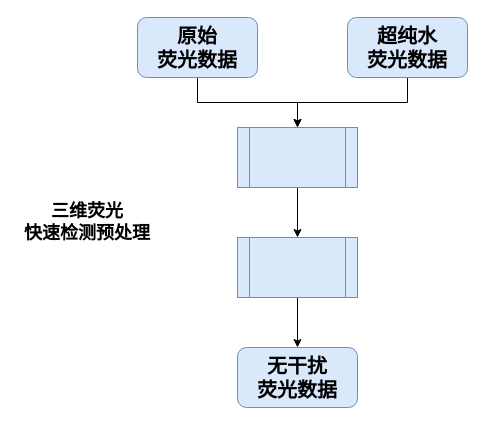
This 485x425 diagram has some shape labels left out. Here are the shapes that lost their labels. From the top down, the box of each, then its label:
(236, 126, 358, 188): 去除散射
(236, 236, 358, 298): 三角插值
